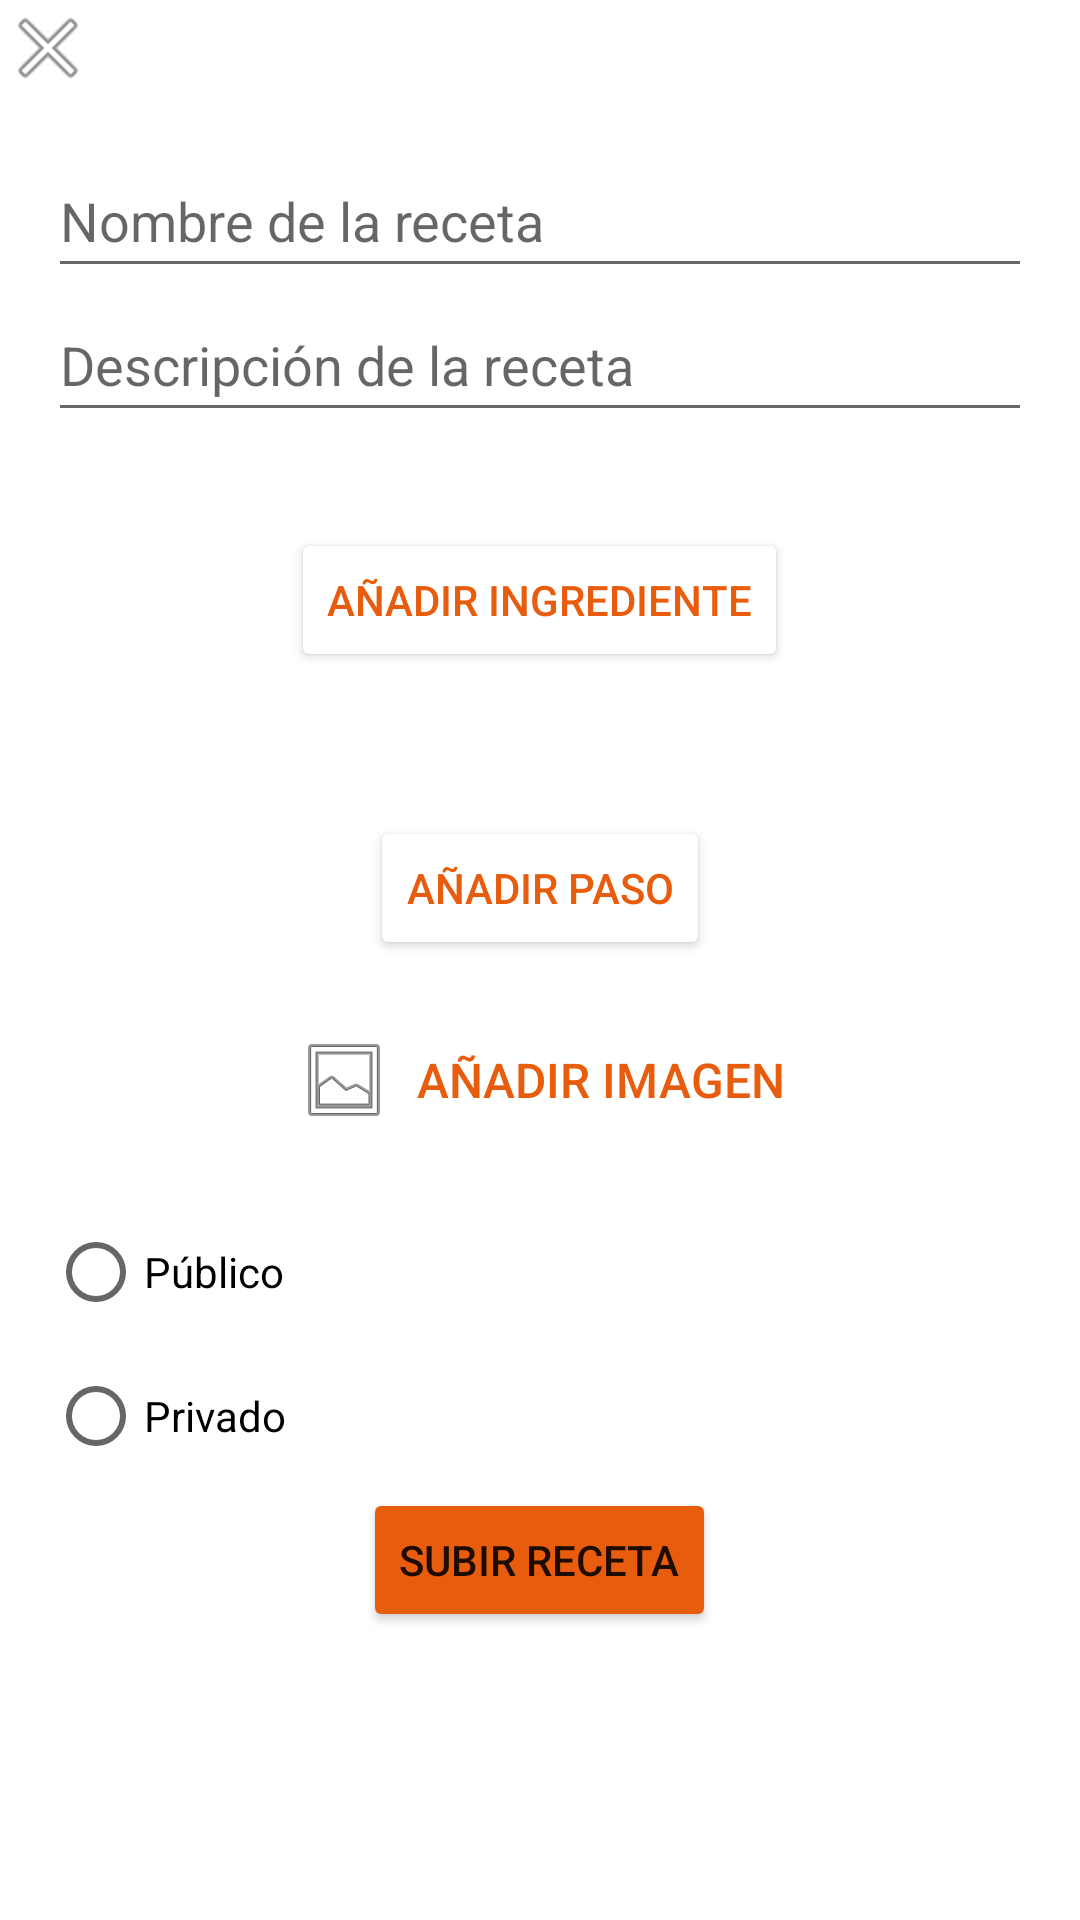

Named icons in this screenshot (1080 × 1920) and their centers, [x,y]:
close clear cancel: [48,48]
